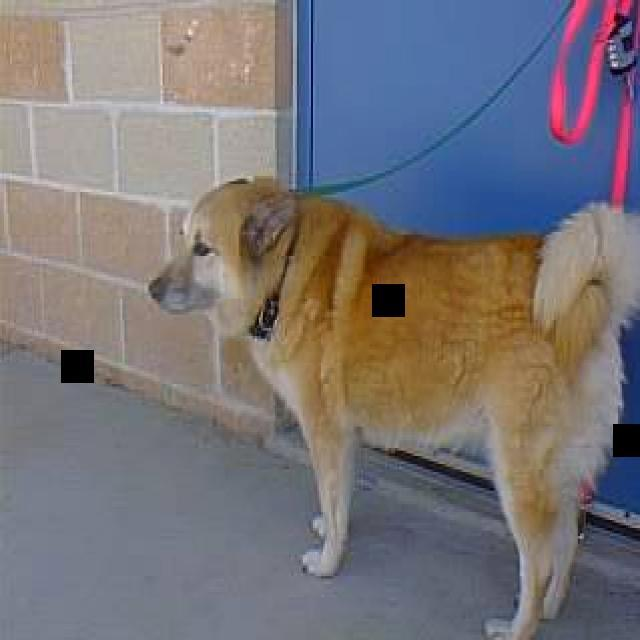adult_dog: (138, 177, 640, 635)
